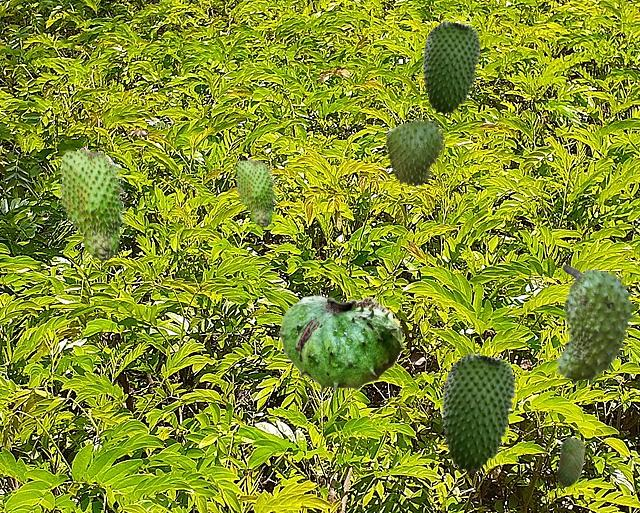guyabano: (278, 295, 404, 394), (554, 264, 637, 385), (441, 352, 514, 473), (58, 147, 126, 262), (422, 20, 479, 115), (385, 118, 445, 187), (235, 158, 276, 227), (556, 437, 584, 486)
